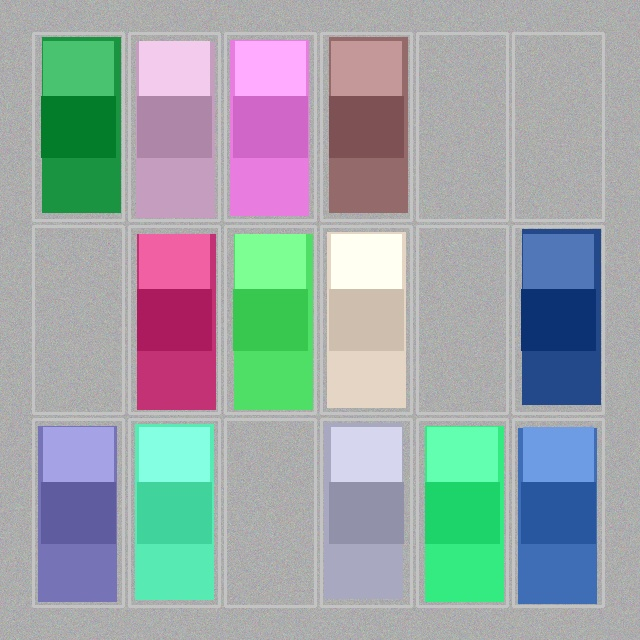space-empty: (419, 35, 505, 218), (515, 35, 601, 218), (35, 228, 121, 411), (419, 228, 505, 411), (227, 421, 313, 604)
space-occupied: (35, 35, 121, 218), (131, 35, 217, 218), (227, 35, 313, 218), (323, 35, 409, 218), (131, 228, 217, 411), (227, 228, 313, 411), (323, 228, 409, 411), (515, 228, 601, 411), (35, 421, 121, 604), (131, 421, 217, 604), (323, 421, 409, 604), (419, 421, 505, 604), (515, 421, 601, 604)
